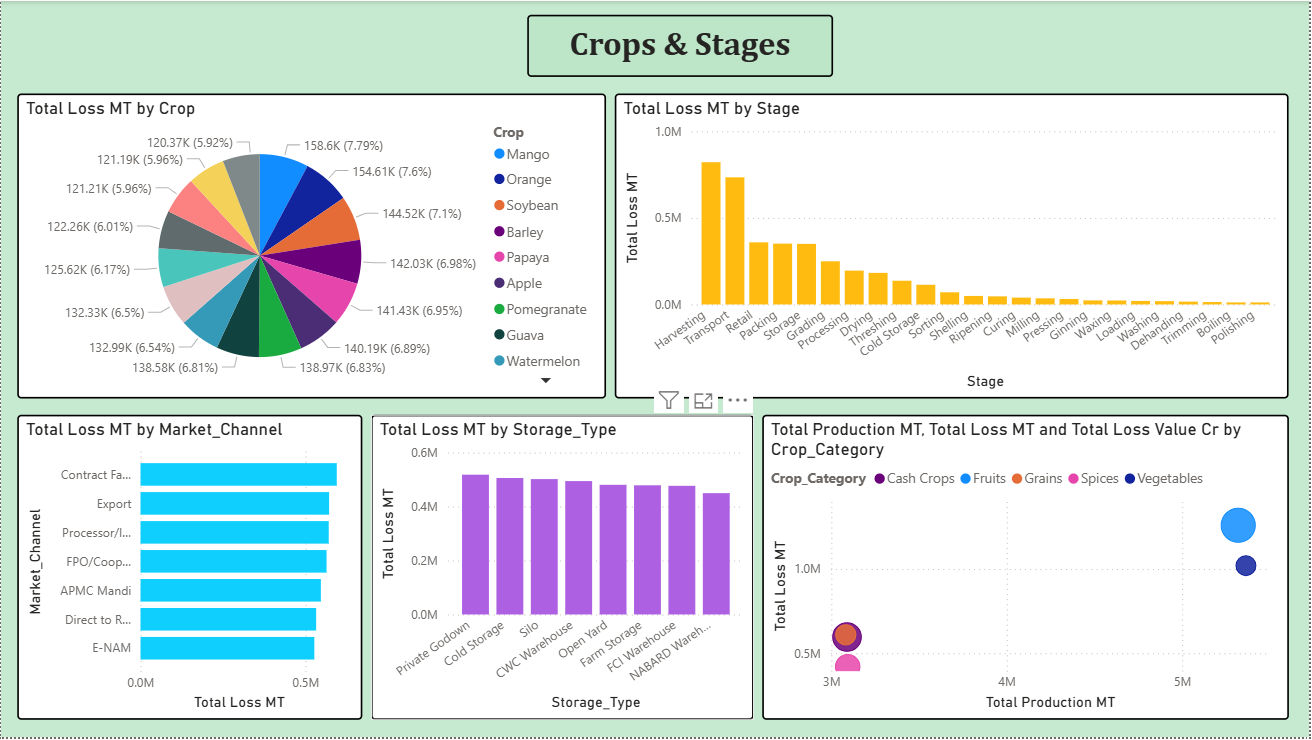

What the dashboard file says about the page in this screenshot:
{"tool":"powerbi","page":{"name":"Crops & Stages","canvas":[1280,720],"ordinal":1},"visuals":[{"type":"pieChart","fields":{"Category":["Supply_Chain_Losses.Crop"],"Y":["Measures (2).Total Loss MT"]},"box":[15.9,90.5,576,298.4],"z":0},{"type":"clusteredColumnChart","fields":{"Category":["Supply_Chain_Losses.Stage"],"Y":["Measures (2).Total Loss MT"]},"box":[600.4,90.5,659.1,298.4],"z":1000},{"type":"clusteredColumnChart","fields":{"Category":["Supply_Chain_Losses.Storage_Type"],"Y":["Measures (2).Total Loss MT"]},"box":[362,404.8,374.2,298.4],"z":2000},{"type":"clusteredBarChart","fields":{"Category":["Supply_Chain_Losses.Market_Channel"],"Y":["Measures (2).Total Loss MT"]},"box":[15.9,404.8,337.5,298.4],"z":3000},{"type":"scatterChart","fields":{"X":["Measures (2).Total Production MT"],"Y":["Measures (2).Total Loss MT"],"Series":["Supply_Chain_Losses.Crop_Category"],"Size":["Measures (2).Total Loss Value Cr"]},"box":[744.7,404.8,514.8,298.4],"z":4000},{"type":"textbox","box":[514.8,13.5,299.6,61.1],"z":5000}]}

Visuals, with their boxes in screenshot pixels (x1, y1, x2, y2), scaled from the page's 1280x720 canvas onto the 1312x740 screenshot:
pieChart - Supply_Chain_Losses.Crop x Measures (2).Total Loss MT: bbox(16, 93, 607, 400)
clusteredColumnChart - Supply_Chain_Losses.Stage x Measures (2).Total Loss MT: bbox(615, 93, 1291, 400)
clusteredColumnChart - Supply_Chain_Losses.Storage_Type x Measures (2).Total Loss MT: bbox(371, 416, 755, 723)
clusteredBarChart - Supply_Chain_Losses.Market_Channel x Measures (2).Total Loss MT: bbox(16, 416, 362, 723)
scatterChart - Measures (2).Total Production MT x Measures (2).Total Loss MT: bbox(763, 416, 1291, 723)
textbox: bbox(528, 14, 835, 77)
